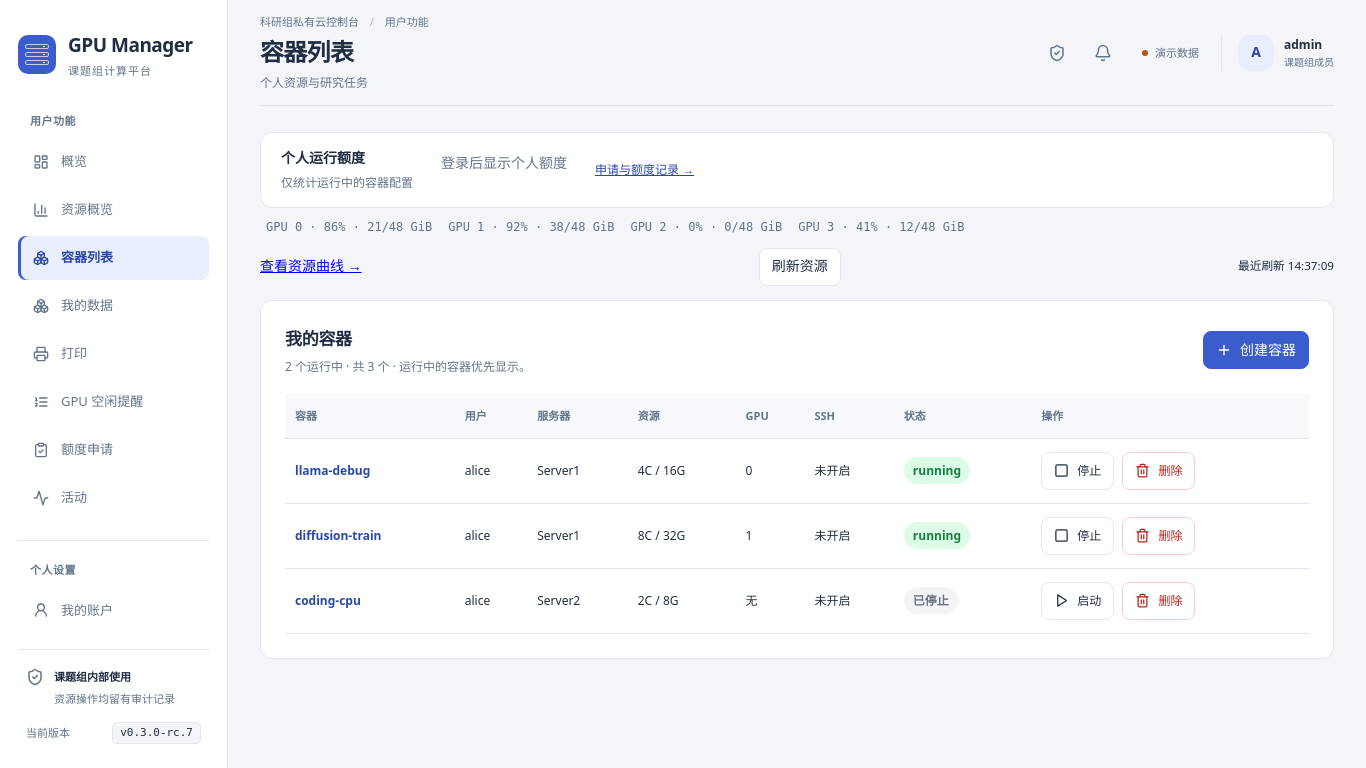
Scenario: creation opens in a focus-trapped dialog and cancel restores the page
Click the button "创建容器" at (1256, 350), box [1203, 331, 1309, 369]
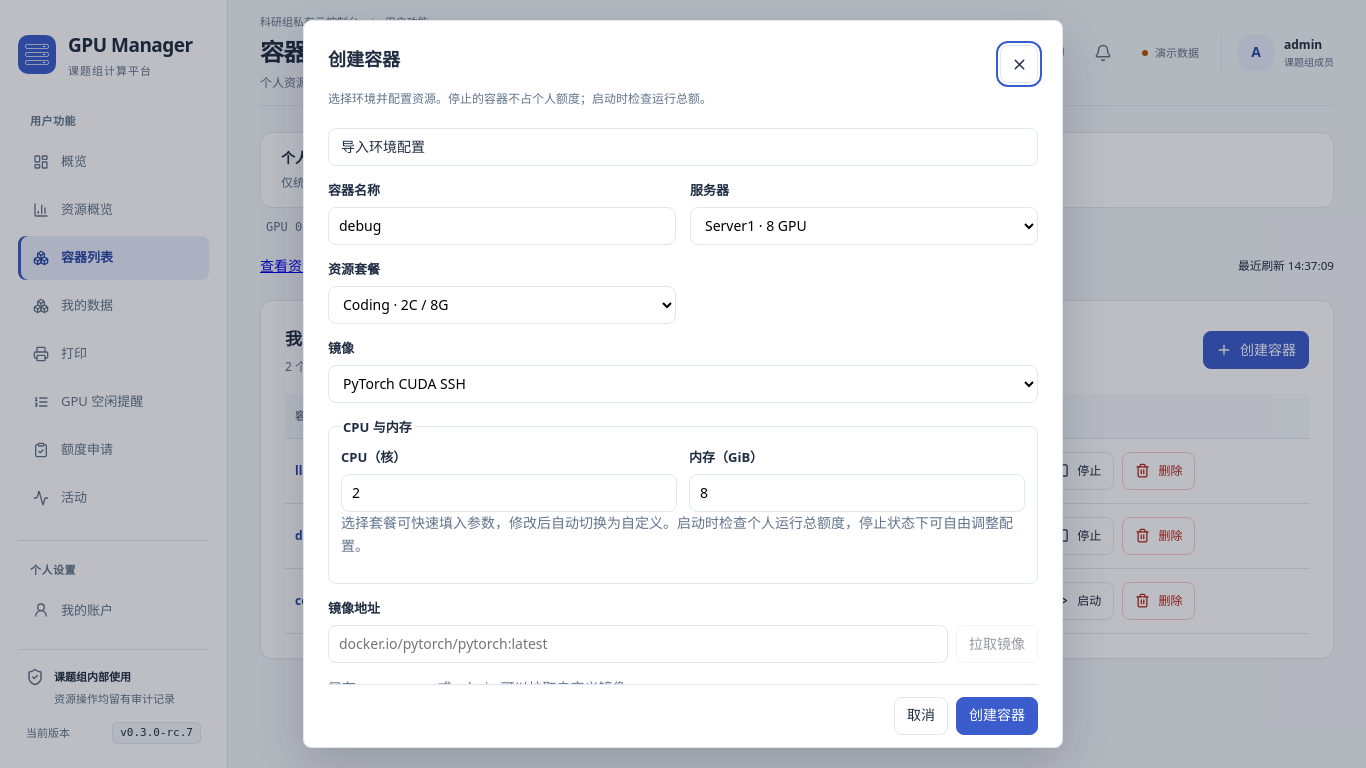
Expected: the button "拉取镜像" is disabled, [956, 625, 1038, 663]
Press Tab in the button named "关闭创建容器", box [1000, 45, 1038, 83]
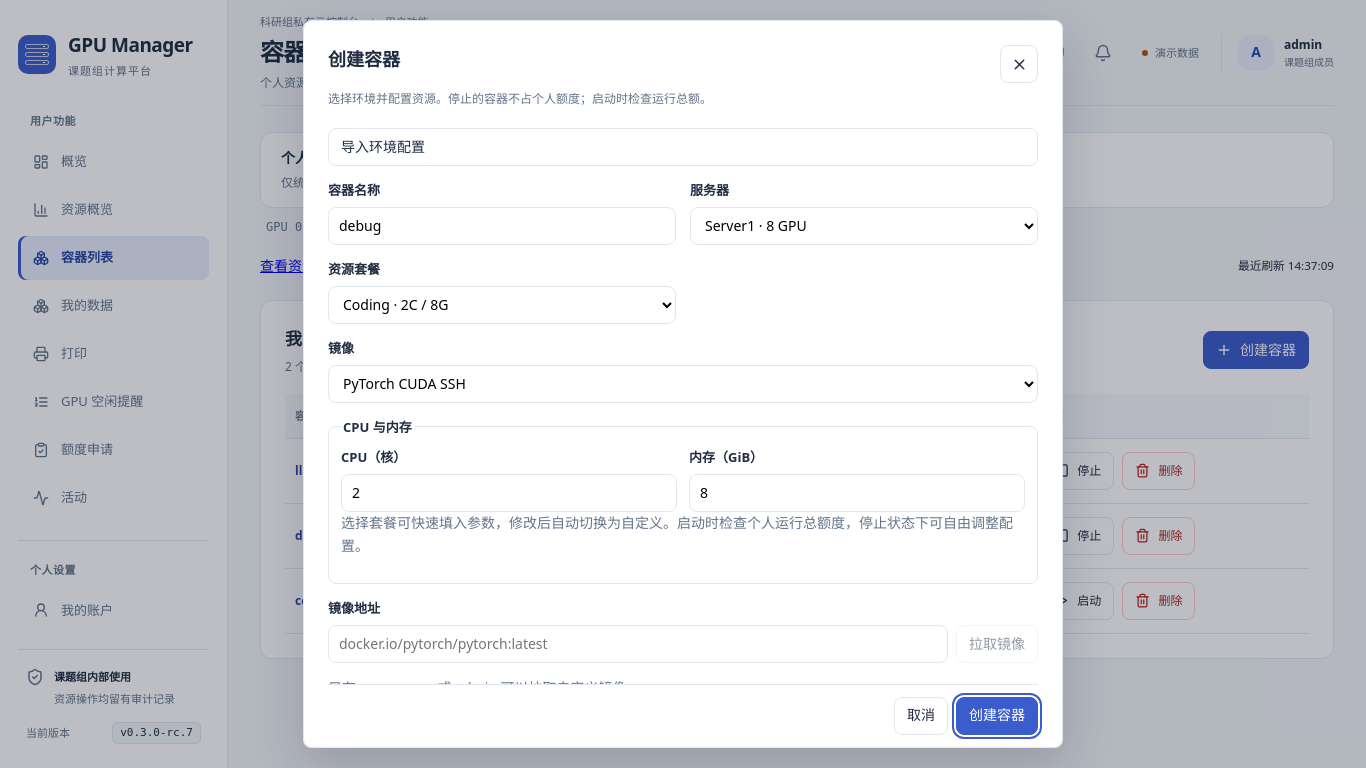
Press Tab in the button "创建容器", box [956, 697, 1038, 735]
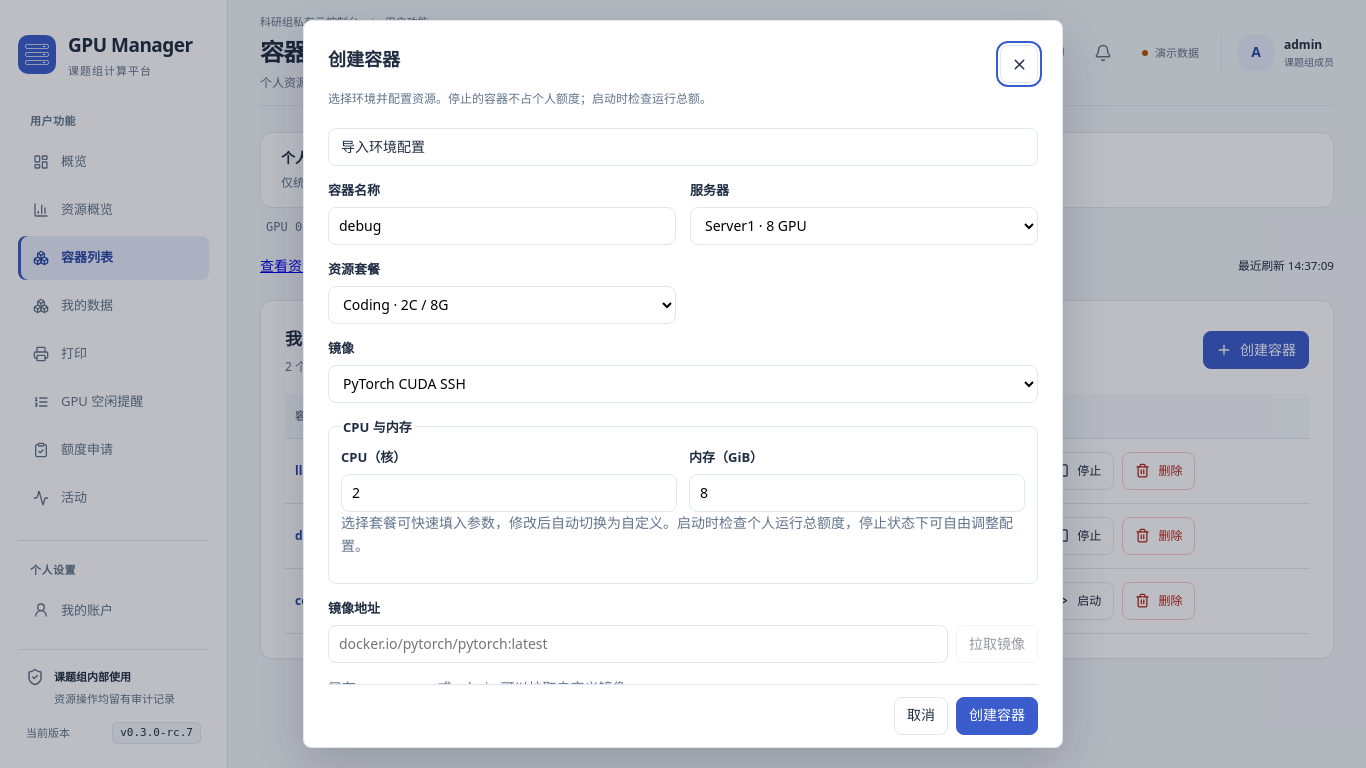
Press Escape in the button named "关闭创建容器", box [1000, 45, 1038, 83]
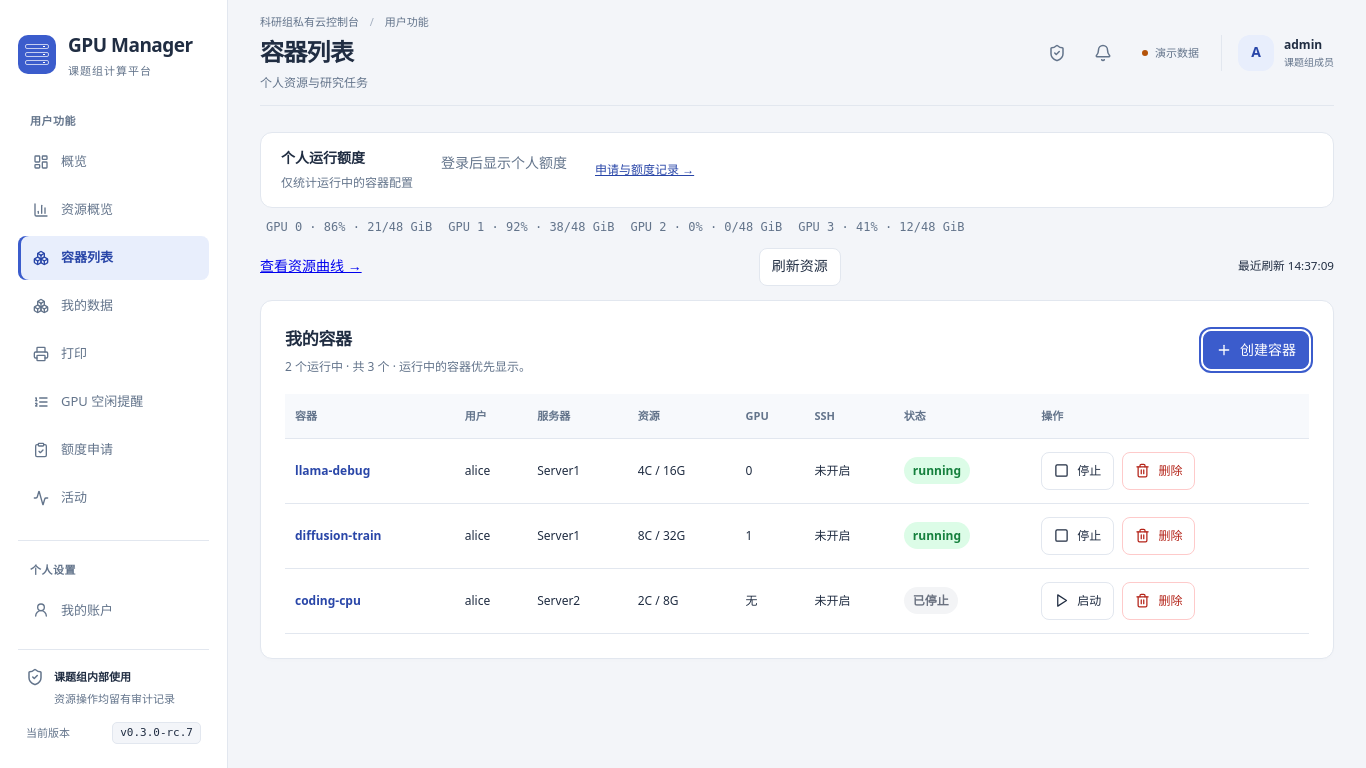
Expected: the dialog is gone
Click the button "创建容器" at (1256, 350), box [1203, 331, 1309, 369]
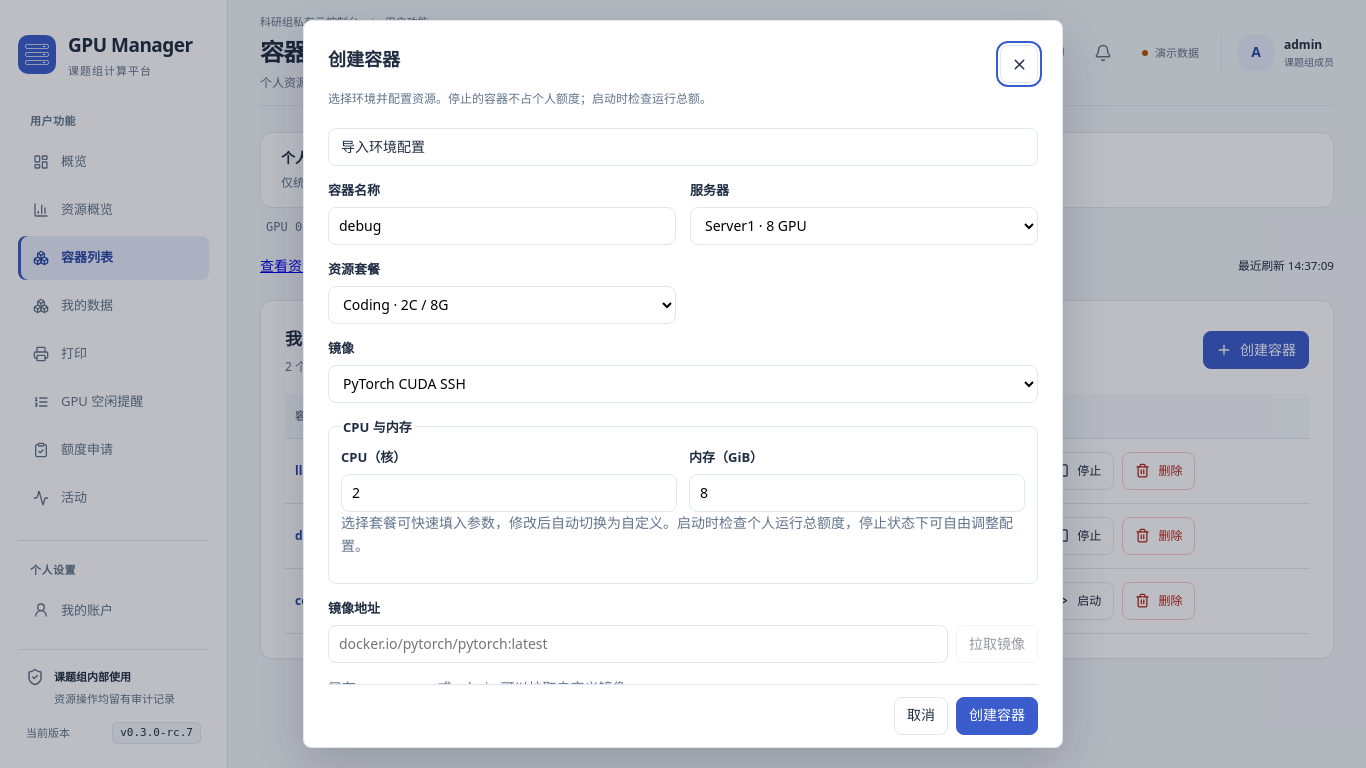
Click the button "取消" at (921, 716), box [894, 697, 948, 735]
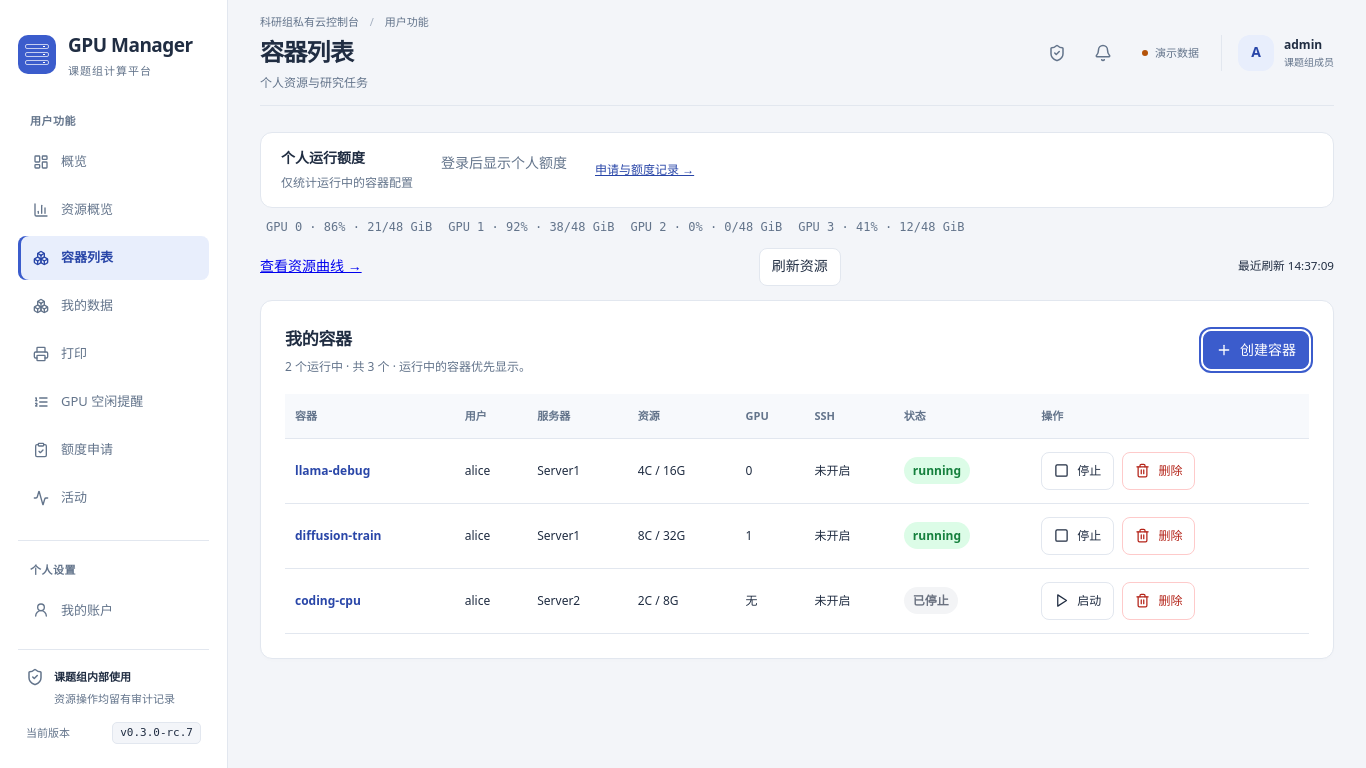
Expected: the dialog is gone
